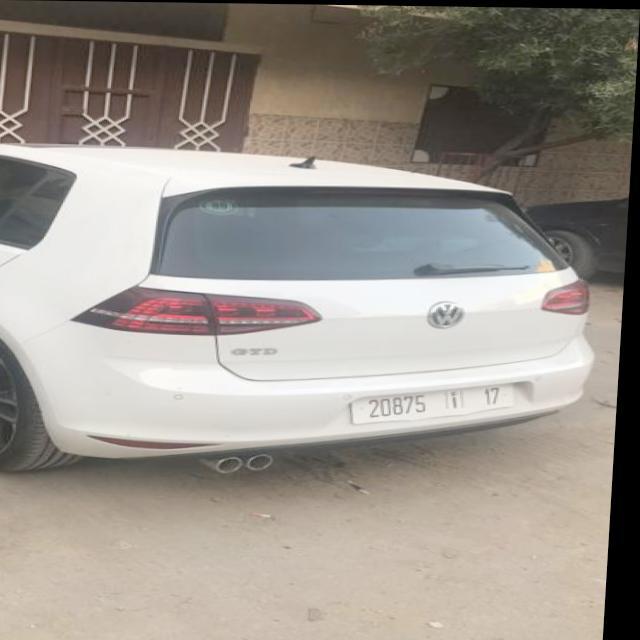License-Plate: (357, 382, 520, 423)
